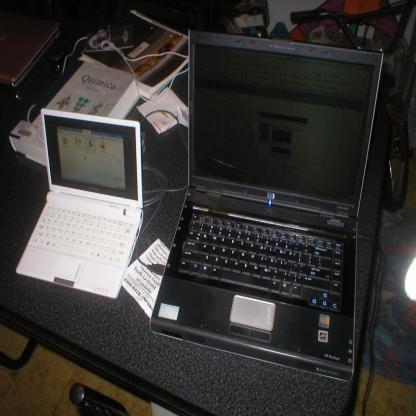board: (151, 28, 384, 380), (15, 94, 147, 306), (0, 9, 59, 85)
